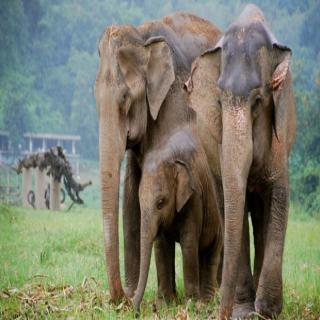Elephant: (86, 0, 209, 304), (188, 0, 302, 320), (131, 126, 219, 320)
